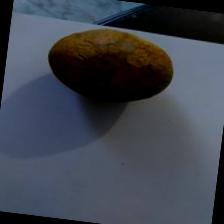Orange Rotten: (39, 16, 186, 116)
